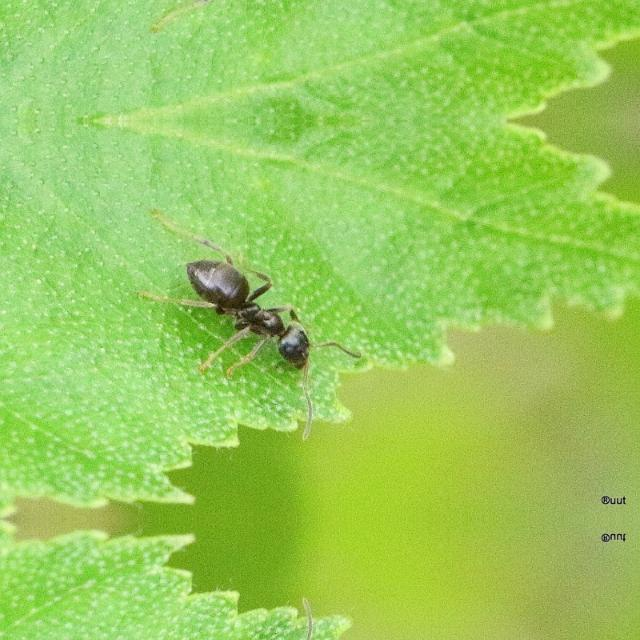Lasius: (150, 234, 368, 378)
